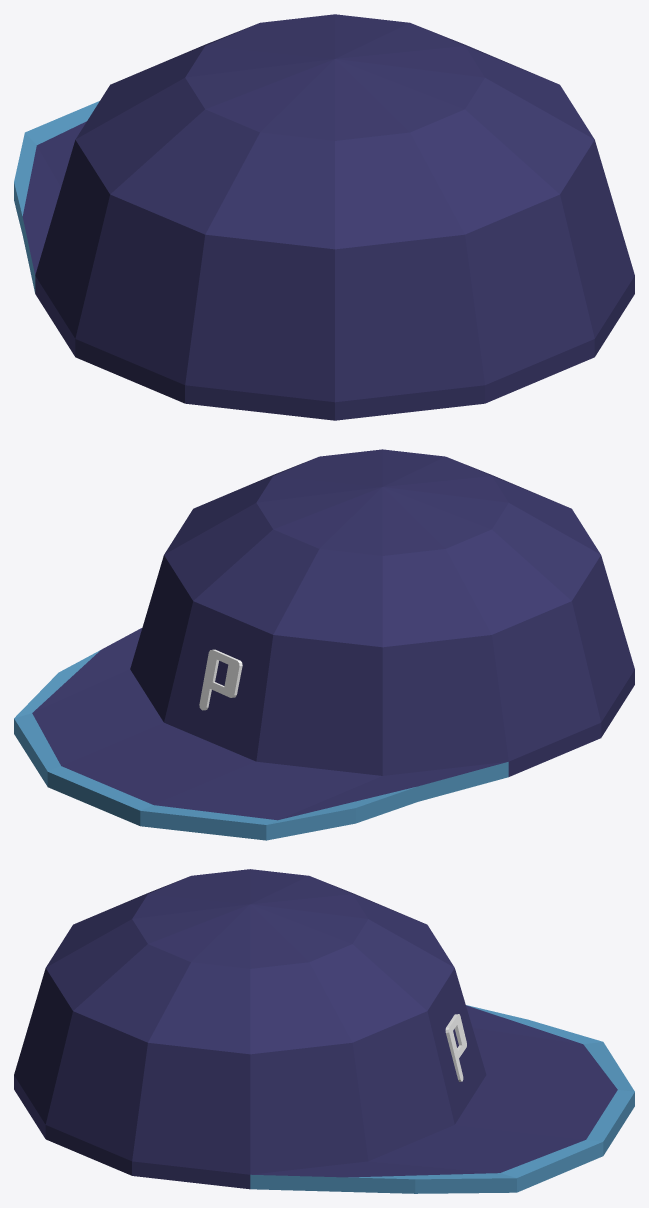
The model's file is cap1_normal.fbx.
3 renders of one model, top to bottom at view 1: azimuth 30°, elevation 25°; view 2: azimuth 150°, elevation 25°; view 3: azimuth 270°, elevation 25°, orthographic. The views are drawn at different scales.
Parts seen in each view (by area): view 1: Sphere.006, Sphere.007; view 2: Sphere.006, Sphere.007, Cube.014; view 3: Sphere.006, Sphere.007, Cube.014.
Boxes of the visible parts, <box> form: Sphere.006: <box>35,14,634,402</box>; Sphere.007: <box>14,101,634,420</box>; Sphere.006: <box>130,449,634,775</box>; Sphere.007: <box>14,628,634,840</box>; Cube.014: <box>199,649,242,710</box>; Sphere.006: <box>14,869,486,1174</box>; Sphere.007: <box>14,1005,634,1193</box>; Cube.014: <box>445,1014,466,1081</box>.
Size of the model in its own units: 54.2 by 23.29 by 68.51.
